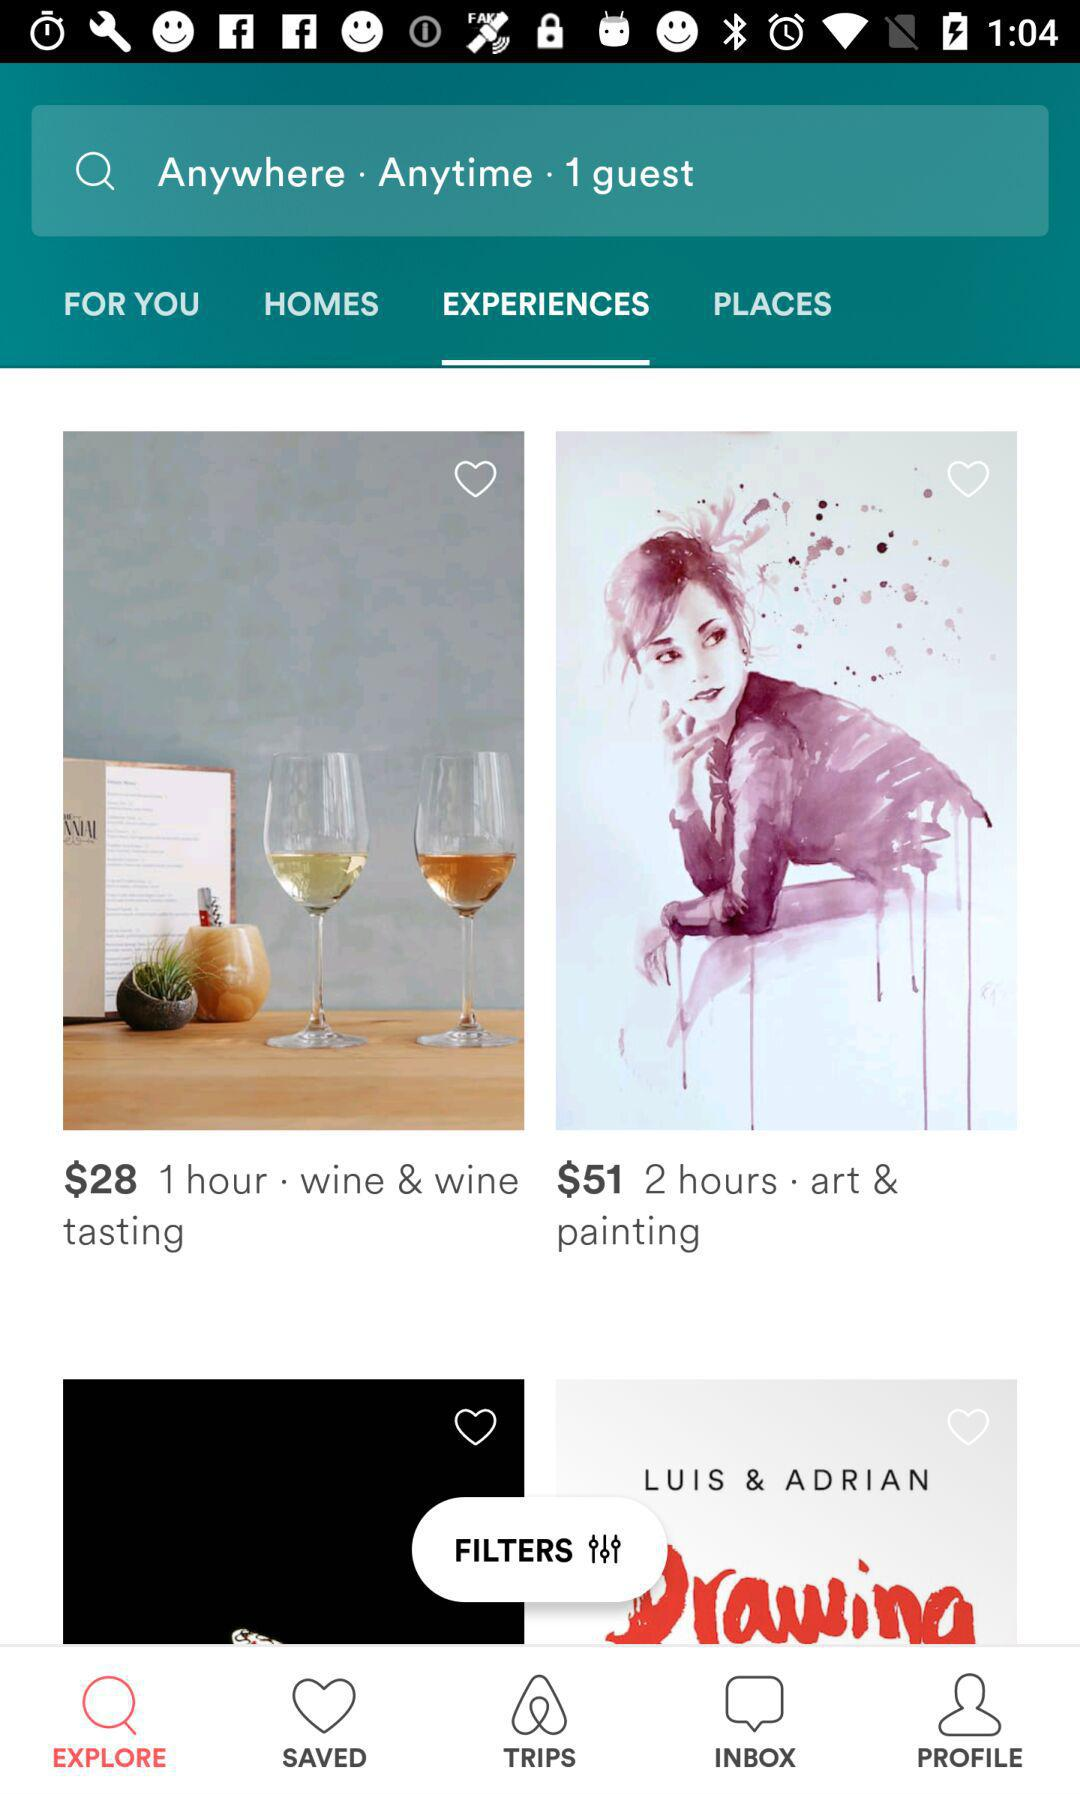EditText: (32, 105, 1051, 238)
Icon: (937, 1672, 1003, 1738), (292, 1677, 357, 1735), (511, 1674, 569, 1736), (725, 1675, 785, 1734), (82, 1675, 138, 1738), (454, 1408, 498, 1447), (454, 460, 498, 498), (947, 1410, 992, 1447), (947, 461, 992, 498), (76, 152, 117, 192)
Image: (63, 431, 525, 1132), (556, 431, 1017, 1132), (63, 1379, 525, 1644), (559, 1379, 1017, 1645)
Text: (63, 1158, 519, 1255), (557, 1158, 899, 1255), (158, 158, 694, 197), (443, 291, 651, 318), (64, 291, 200, 318), (265, 291, 380, 318), (714, 292, 831, 318), (54, 1747, 168, 1768), (917, 1747, 1024, 1768), (283, 1747, 368, 1768), (715, 1747, 798, 1768), (502, 1747, 577, 1768)
TextButton: (413, 1497, 669, 1603)
UpperTaskBar: (1, 1, 1080, 64)
